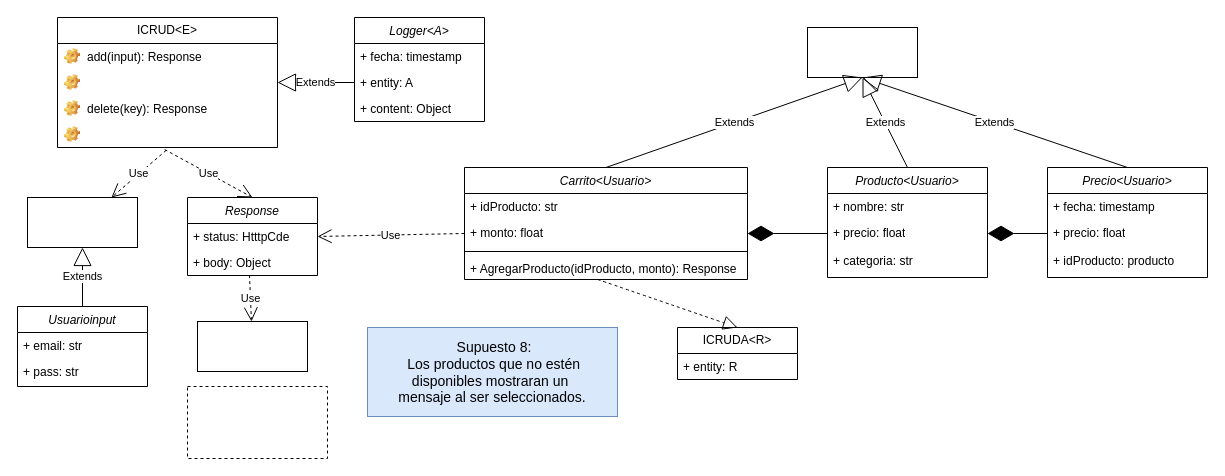
Image size: 1225x476. Some labels were removed from this diagram. Each missing label, with the centre of its shape:
"200: OK 400: Not Allowed 404: Not Found" goes at [257,422].
"HttpCode" goes at [252,346].
"query(key): Response" goes at [167,134].
"update(key, input): Response" goes at [167,82].
"«interface» ICRUD" goes at [862,52].
"«interface» input" goes at [82,222].
